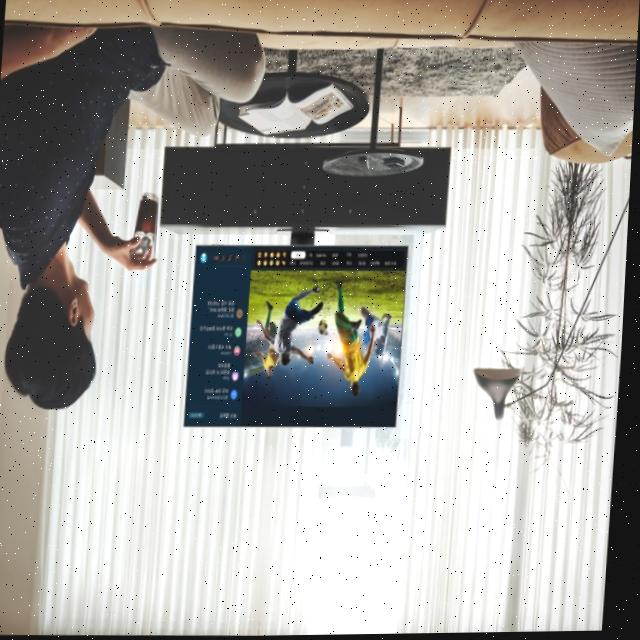tv-person: (0, 26, 435, 459)
